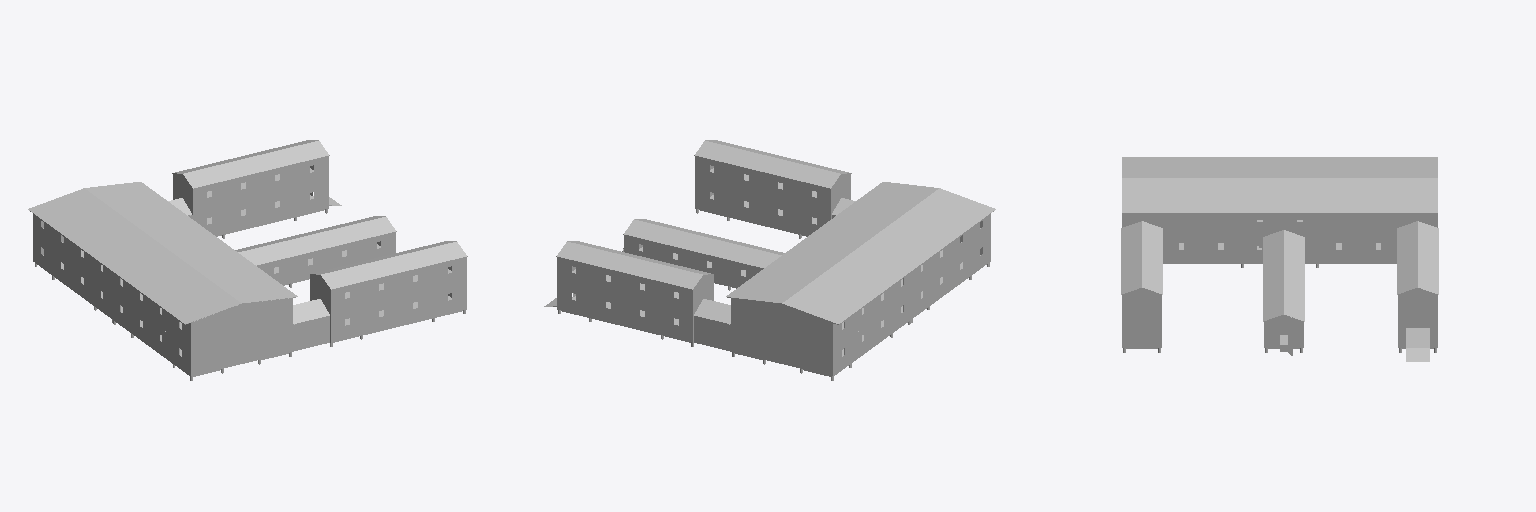
The model's file is edificio.obj.
The picture shows the model from 3 angles: view 1: azimuth 30°, elevation 25°; view 2: azimuth 150°, elevation 25°; view 3: azimuth 270°, elevation 25°; orthographic projection.
Parts seen in each view (by area): view 1: Techo.003_Plane.034, ParedLateral.007_Plane.036, ParedLateral.002_Plane.011, ParedLateral.003_Plane.023, ParedLateral.009_Plane.038, ParedLateral.001_Plane.008, ParedLateral.004_Plane.026, ParedLateral.006_Plane.033, ParedLateral.008_Plane.037, Techo.002_Plane.029, Techo.001_Plane.024, Techo_Plane.016 (+2 smaller); view 2: Techo.003_Plane.034, ParedLateral.007_Plane.036, ParedLateral.003_Plane.023, ParedLateral.002_Plane.011, ParedLateral.009_Plane.038, ParedLateral.004_Plane.026, ParedLateral.001_Plane.008, ParedLateral.006_Plane.033, Techo.002_Plane.029, Techo_Plane.016, Techo.001_Plane.024, ParedLateral.008_Plane.037 (+2 smaller); view 3: Techo.003_Plane.034, ParedLateral.008_Plane.037, ParedLateral.009_Plane.038, Techo.002_Plane.029, Techo_Plane.016, Techo.001_Plane.024, ParedLateral.002_Plane.011, ParedLateral.003_Plane.023, ParedLateral.001_Plane.008, ParedLateral.005_Plane.028, Piso.004_Plane.025, ParedLateral.004_Plane.026.
Boxes of the visible parts, x1,y1,x2,y2 form: Techo.003_Plane.034: [28, 182, 297, 324]; ParedLateral.007_Plane.036: [33, 235, 190, 376]; ParedLateral.002_Plane.011: [310, 257, 466, 315]; ParedLateral.003_Plane.023: [173, 156, 328, 214]; ParedLateral.009_Plane.038: [42, 215, 329, 375]; ParedLateral.001_Plane.008: [330, 283, 466, 342]; ParedLateral.004_Plane.026: [193, 182, 328, 235]; ParedLateral.006_Plane.033: [33, 214, 190, 349]; ParedLateral.008_Plane.037: [42, 221, 292, 349]; Techo.002_Plane.029: [235, 216, 396, 265]; Techo.001_Plane.024: [172, 140, 329, 188]; Techo_Plane.016: [310, 241, 467, 289]; Techo.003_Plane.034: [726, 182, 995, 324]; ParedLateral.007_Plane.036: [833, 235, 990, 376]; ParedLateral.003_Plane.023: [557, 257, 713, 315]; ParedLateral.002_Plane.011: [695, 156, 850, 214]; ParedLateral.009_Plane.038: [694, 215, 981, 375]; ParedLateral.004_Plane.026: [557, 283, 693, 342]; ParedLateral.001_Plane.008: [695, 182, 831, 235]; ParedLateral.006_Plane.033: [833, 214, 990, 349]; Techo.002_Plane.029: [623, 219, 784, 268]; Techo_Plane.016: [694, 140, 851, 188]; Techo.001_Plane.024: [556, 241, 712, 289]; ParedLateral.008_Plane.037: [731, 221, 981, 349]; Techo.003_Plane.034: [1122, 157, 1437, 212]; ParedLateral.008_Plane.037: [1122, 213, 1437, 236]; ParedLateral.009_Plane.038: [1163, 237, 1396, 263]; Techo.002_Plane.029: [1263, 230, 1304, 321]; Techo_Plane.016: [1121, 221, 1162, 294]; Techo.001_Plane.024: [1397, 221, 1438, 294]; ParedLateral.002_Plane.011: [1122, 288, 1161, 320]; ParedLateral.003_Plane.023: [1398, 288, 1437, 320]; ParedLateral.001_Plane.008: [1122, 321, 1161, 347]; ParedLateral.005_Plane.028: [1264, 315, 1303, 347]; Piso.004_Plane.025: [1406, 328, 1429, 361]; ParedLateral.004_Plane.026: [1398, 321, 1437, 347].
Bounding box in the file's own units: 438 × 91.98 × 404.